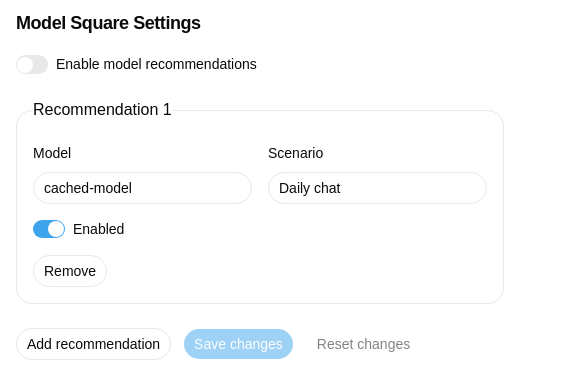
Test case: model square settings interactions › preserves dirty edits when fresh configuration replaces the cache
Expected: the dropdown labelled "Model" holds "cached-model", [34,172,224,204]
Step 1. Select "Writing" in the dropdown labelled "Scenario" → (378, 188), box [268,172,487,204]
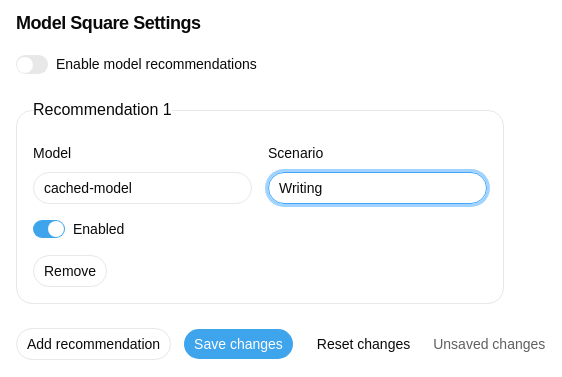
Expected: the dropdown labelled "Model" holds "cached-model", [34,172,224,204]
Result: the text "Unsaved changes" is shown at [433,334,545,354]
Result: the button "Save changes" is enabled at [183,328,294,360]
